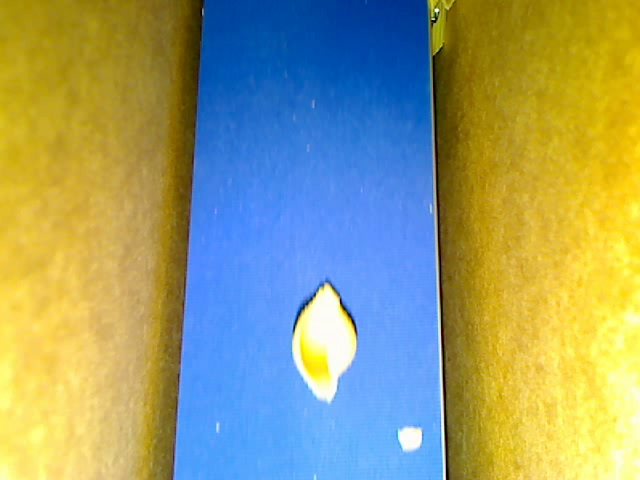penne: (425, 1, 446, 62)
shell: (287, 271, 359, 403)
